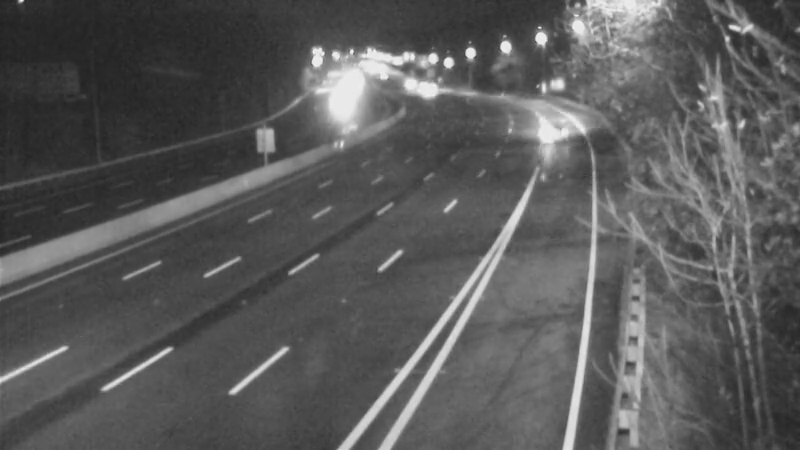vehicle: (404, 69, 454, 119), (526, 100, 576, 150)
